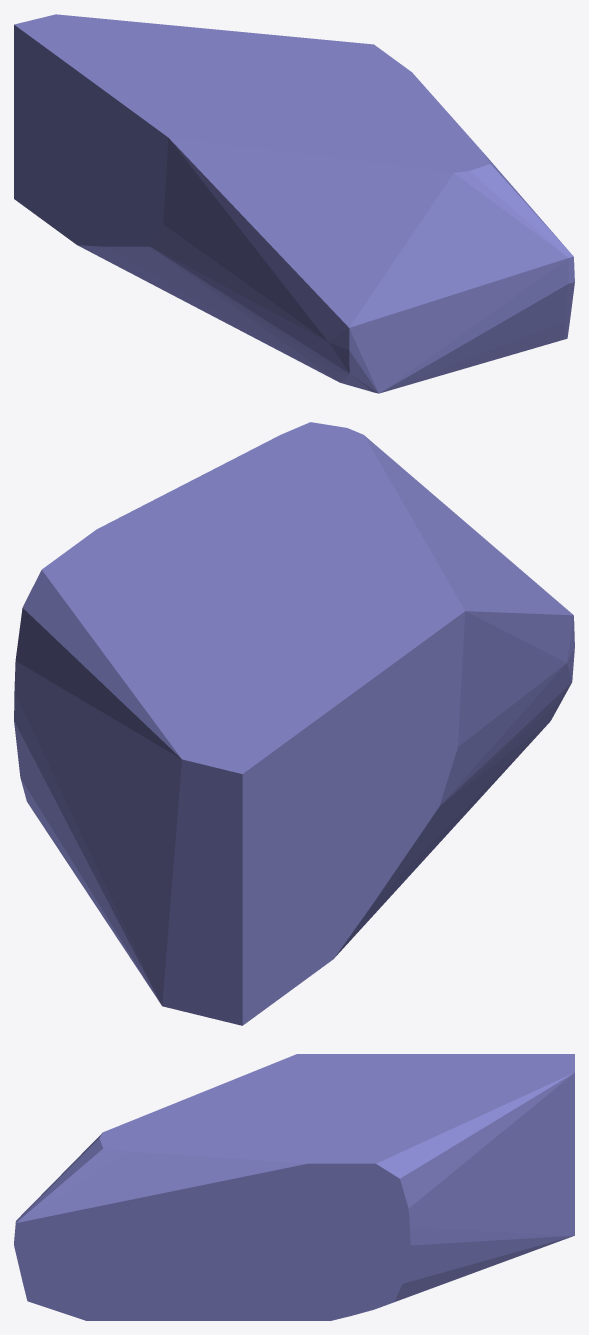
3 views of the same model, one above another, from view 1: azimuth 30°, elevation 25°; view 2: azimuth 150°, elevation 25°; view 3: azimuth 270°, elevation 25° (orthographic). The views are drawn at different scales.
Size of the model in its own units: 0.0204 by 0.0137 by 0.0442.
